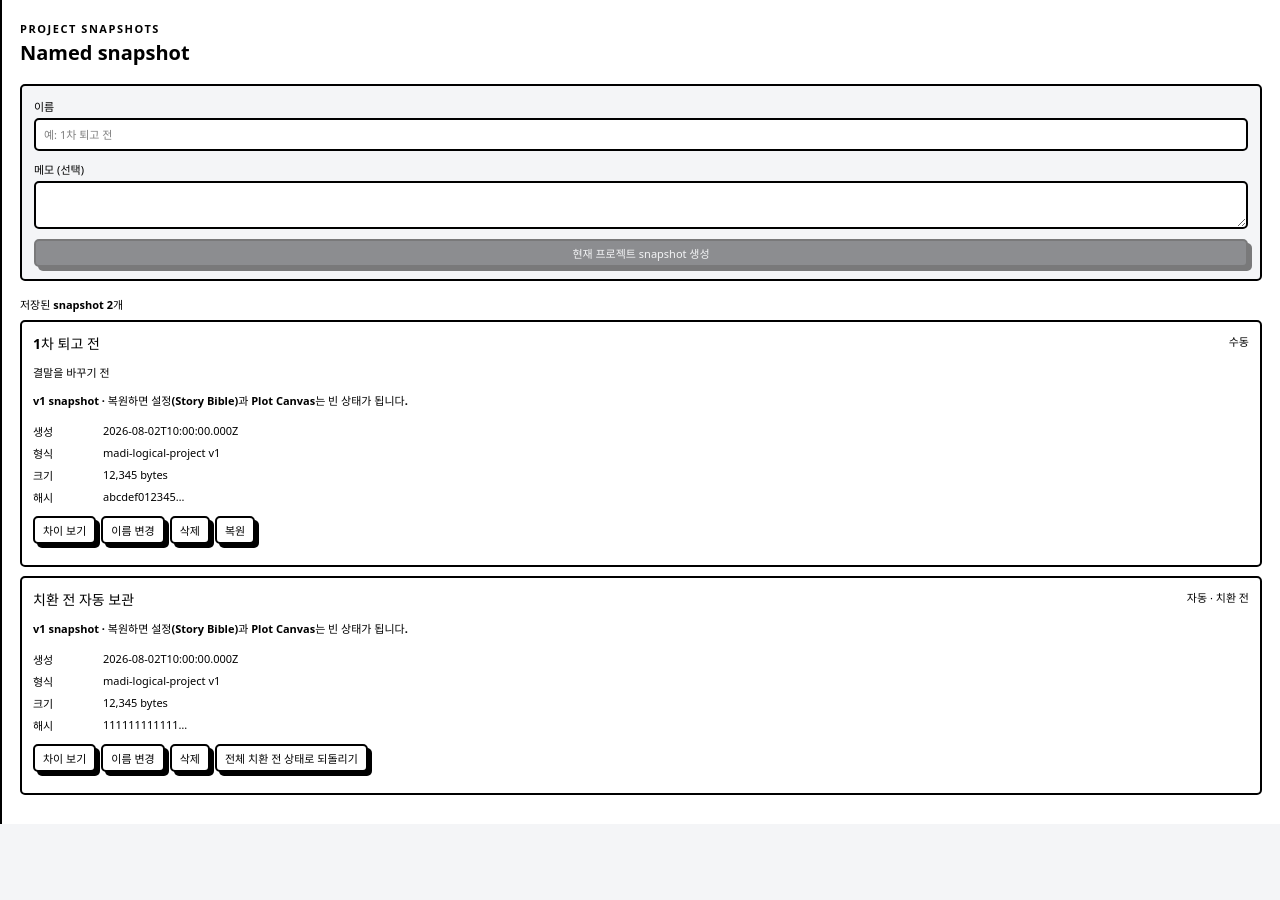
Test case: Phase 1B named snapshot panel › offers the product-level whole-replacement rollback action on safety snapshots
Click the button with aria-label "치환 전 자동 보관 전체 치환 전 상태로 되돌리기".
click(291, 758)  # box [215, 744, 368, 772]
(page scrolled)
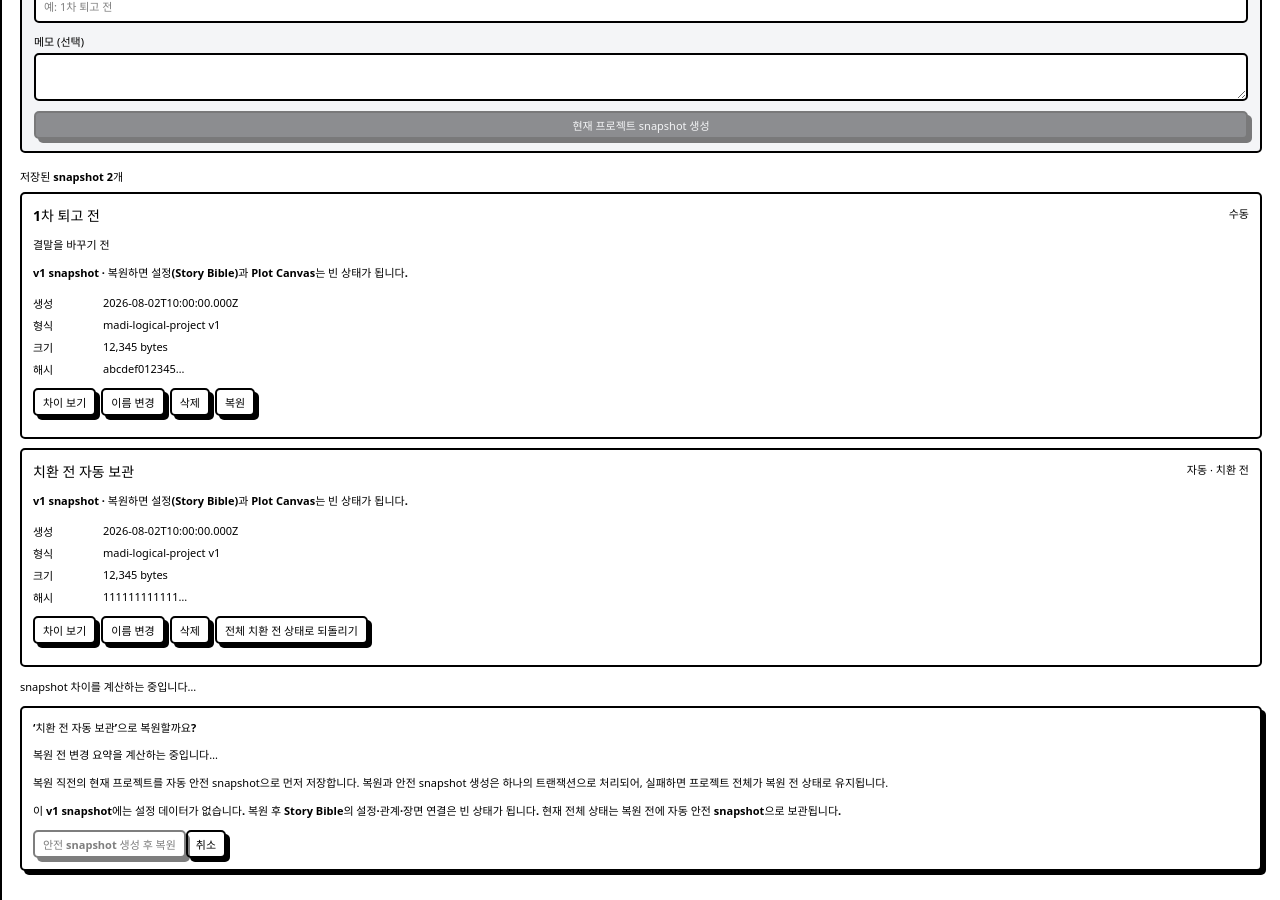
Result: the dialog is shown at [20, 706, 1262, 871]
